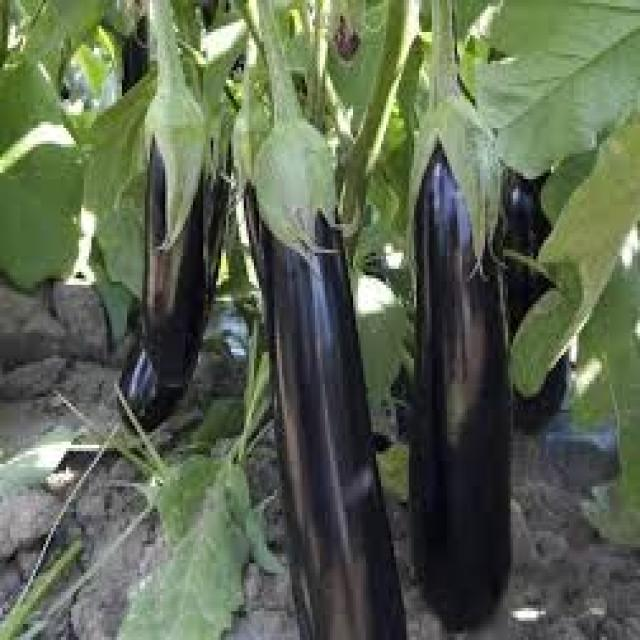eggplant: (254, 121, 401, 636), (406, 93, 508, 627), (135, 86, 203, 384)
